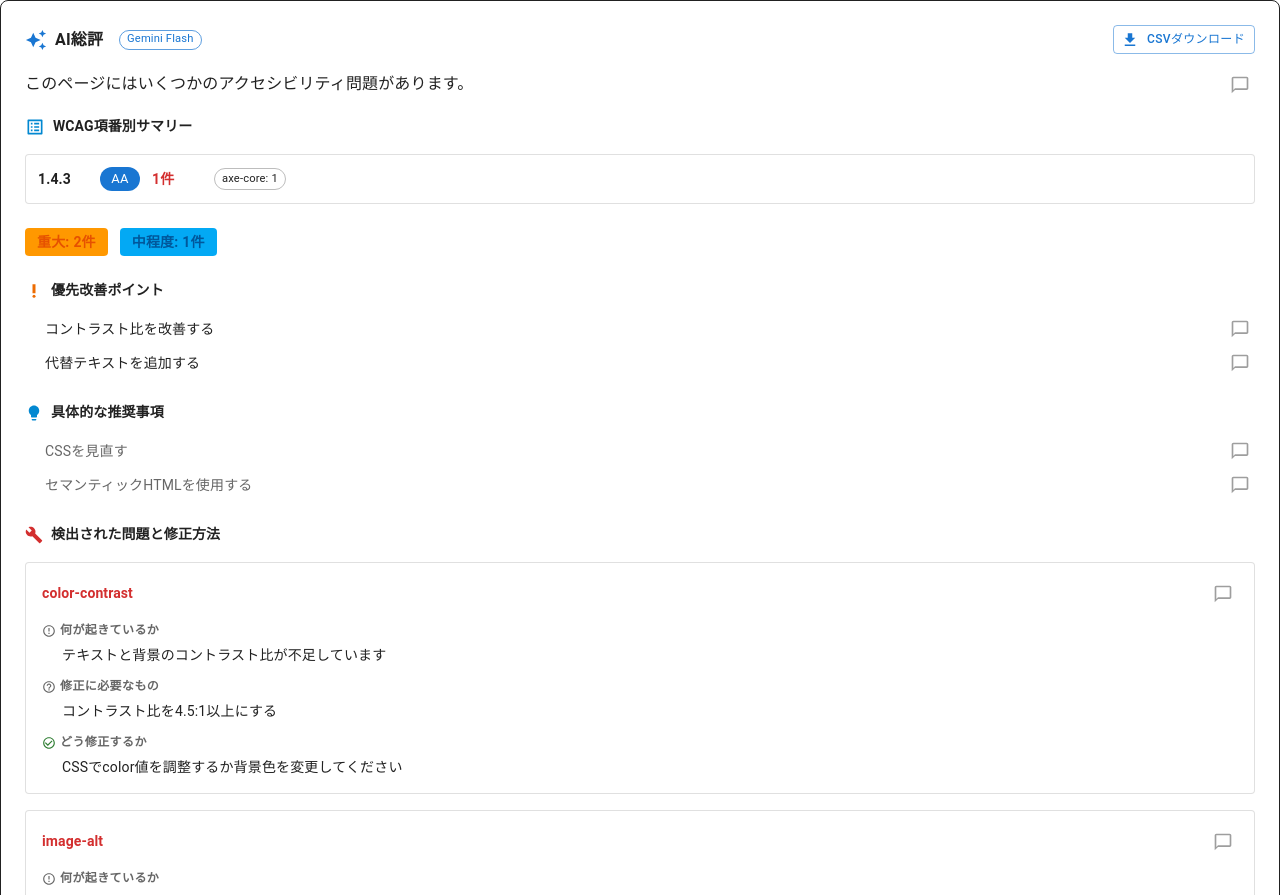
Test: ImprovementList › Task 6.1: Snackbar通知の統合 › ダウンロード成功後、成功通知Snackbarが表示される
This screenshot has width=1280, height=895.
Click the button "CSVダウンロード". click: (1184, 40)
box: 1113,25 -> 1255,54
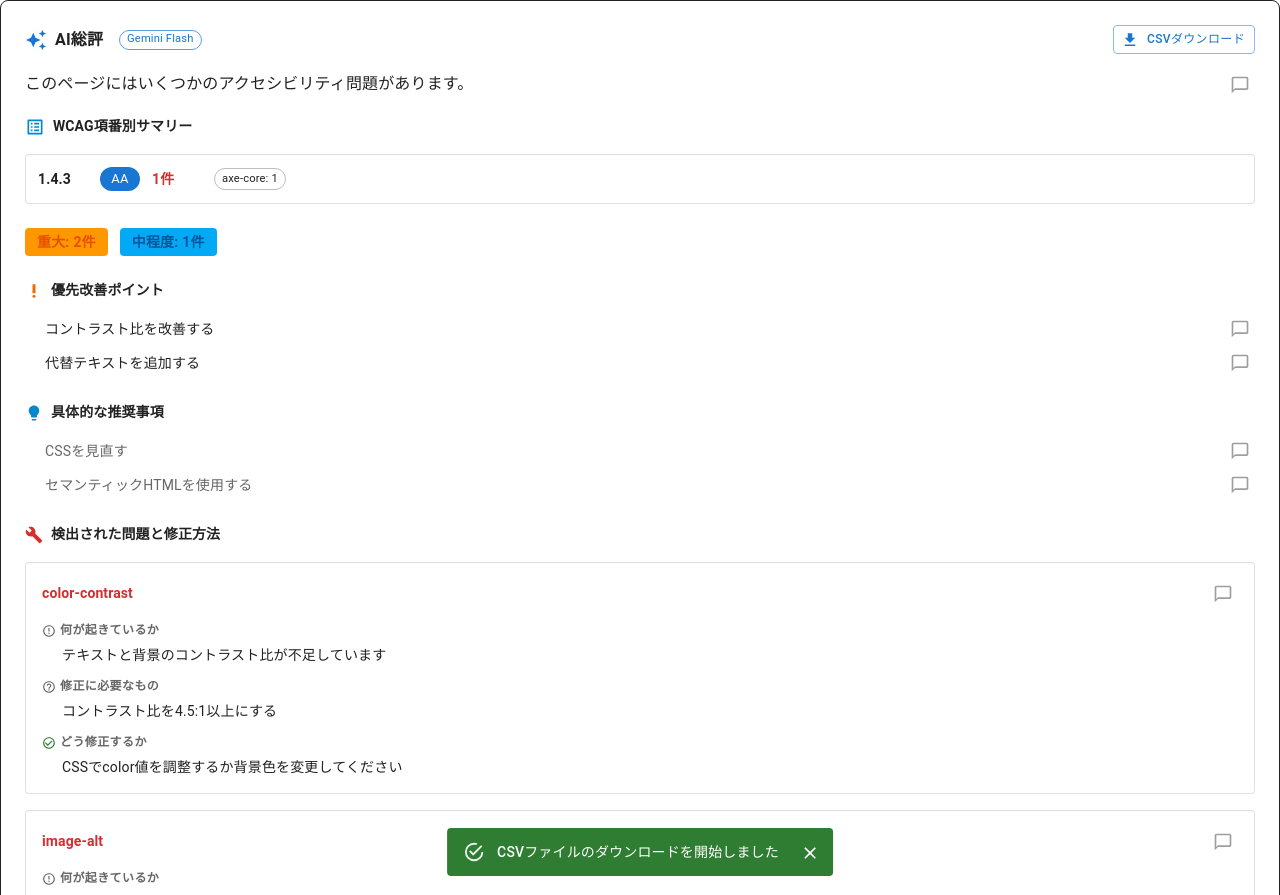
Expected: the message "CSVファイルのダウンロードを開始しました" is shown, 447,828 -> 833,876
Expected: the text "CSVファイルのダウンロードを開始しました" is shown, 497,844 -> 779,860
